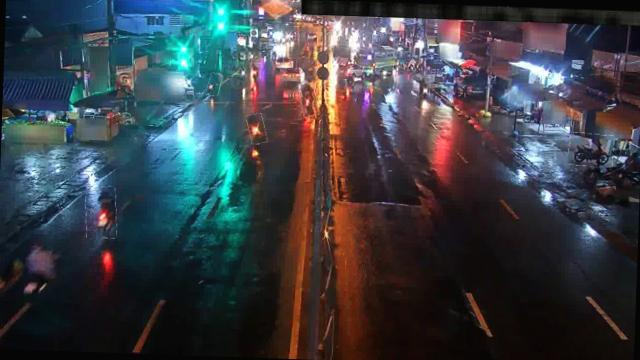Bike: (84, 186, 118, 239), (568, 133, 614, 168), (246, 113, 266, 145), (300, 82, 318, 116), (207, 73, 222, 96), (418, 77, 431, 96), (251, 63, 260, 80)
